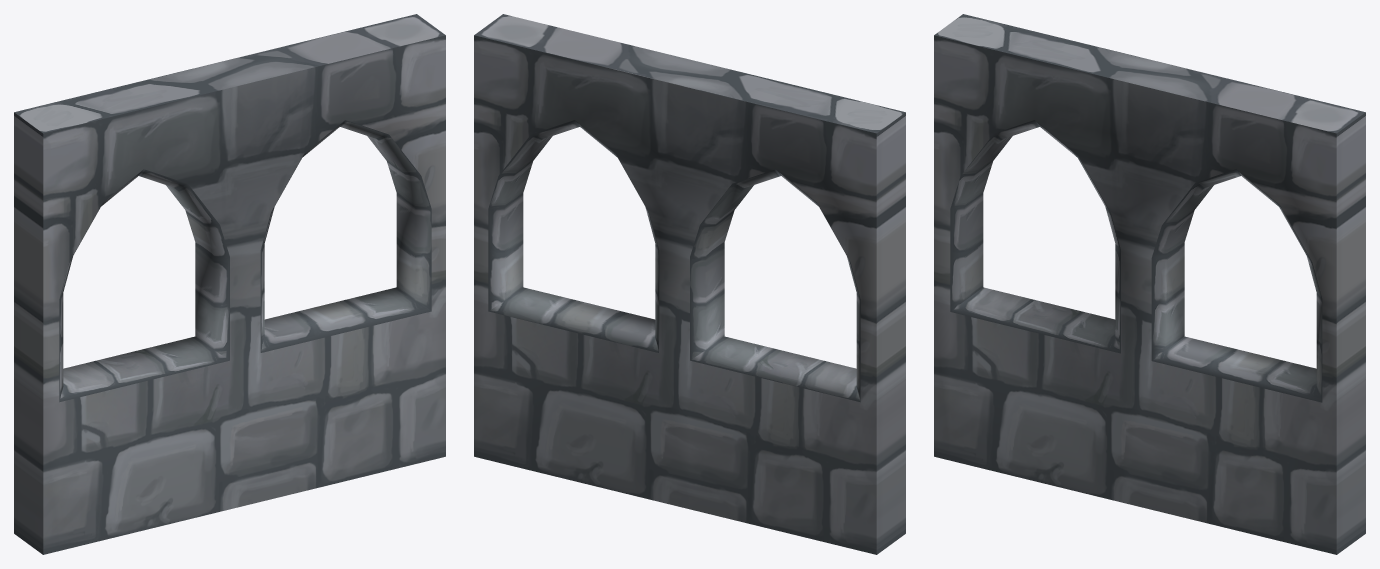
File: WindowsTall.001.fbx
The picture shows the model from 3 angles, left to right: view 1: azimuth 30°, elevation 25°; view 2: azimuth 150°, elevation 25°; view 3: azimuth 330°, elevation 25°; orthographic projection.
Parts seen in each view (by area): view 1: WindowsTall.001; view 2: WindowsTall.001; view 3: WindowsTall.001.
Part boxes in pixels (x1,y1,x2,y2): WindowsTall.001: [14, 14, 445, 554]; WindowsTall.001: [474, 14, 905, 554]; WindowsTall.001: [934, 14, 1365, 554].
Bounding box in the file's own units: 400 × 400 × 50.
